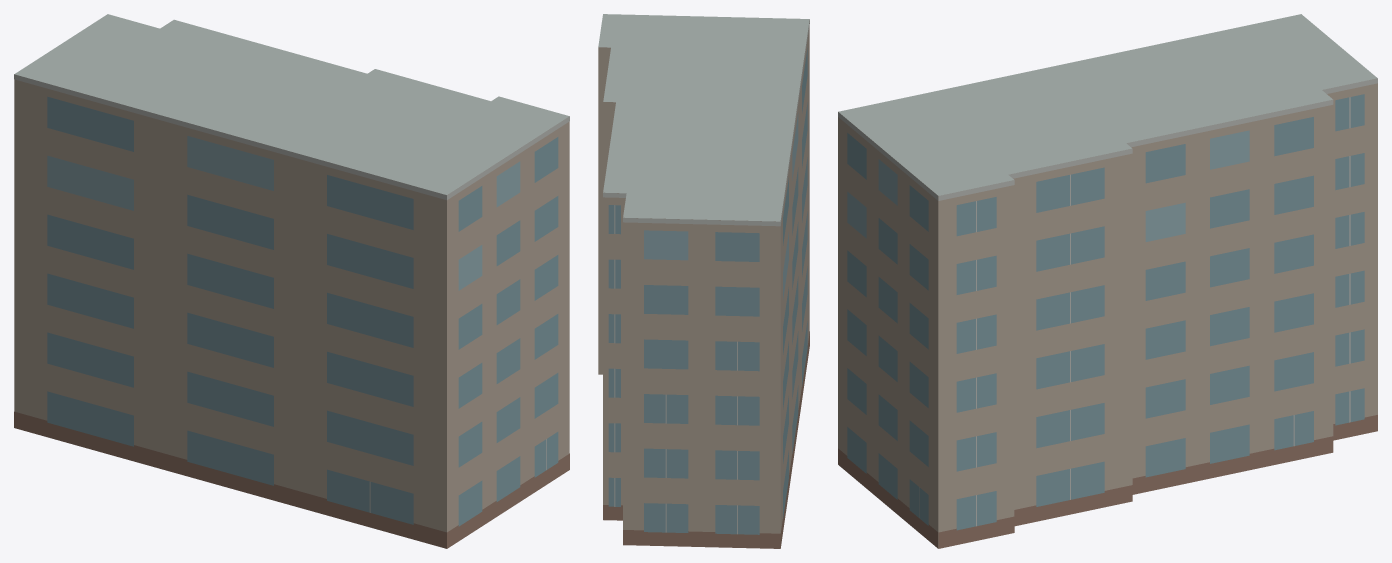
Rendered from survey-upis-32679062.glb.
3 renders of one model, left to right at view 1: azimuth 30°, elevation 25°; view 2: azimuth 150°, elevation 25°; view 3: azimuth 270°, elevation 25°, orthographic. The views are drawn at different scales.
Parts seen in each view (by area): view 1: survey-upis-32679062.tmp; view 2: survey-upis-32679062.tmp; view 3: survey-upis-32679062.tmp.
Part boxes in pixels (left/top/right/bottom): survey-upis-32679062.tmp: left=14, top=14, right=569, bottom=548; survey-upis-32679062.tmp: left=598, top=14, right=809, bottom=548; survey-upis-32679062.tmp: left=838, top=14, right=1377, bottom=548.
Size of the model in its own units: 18.81 by 17 by 23.57.
